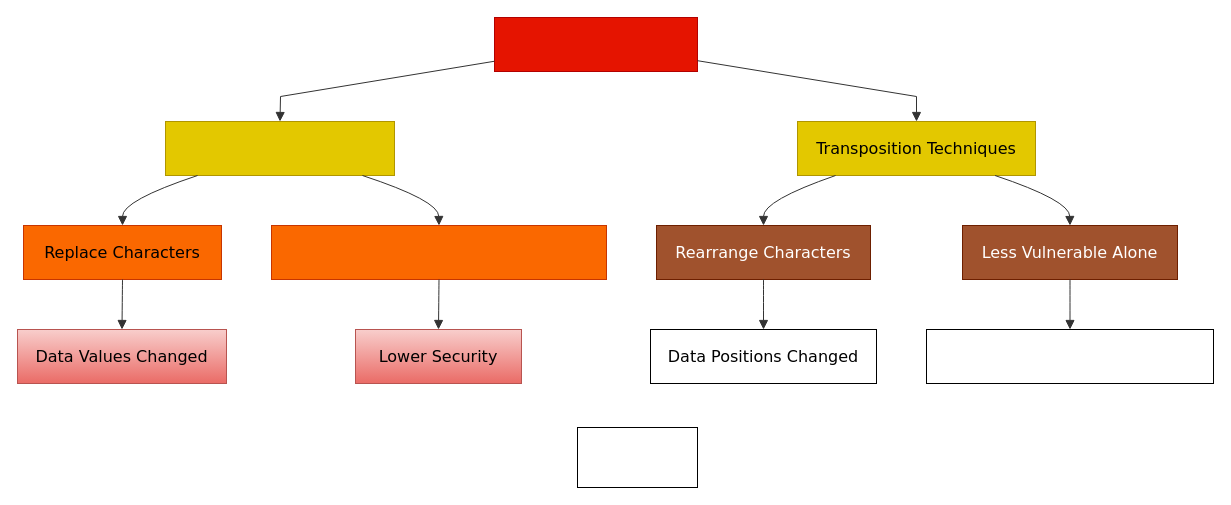
The diagram is 1231 pixels wide and 505 high, and some of its shapes have lost their labels. Here are the shapes that lost their labels. From the top down, the centre of each, then its label:
At point (596, 44): "Classical Encryption".
At point (279, 148): "Substitution Techniques".
At point (438, 252): "More Vulnerable to Frequency Analysis".
At point (1070, 356): "Better Security when Combined".
